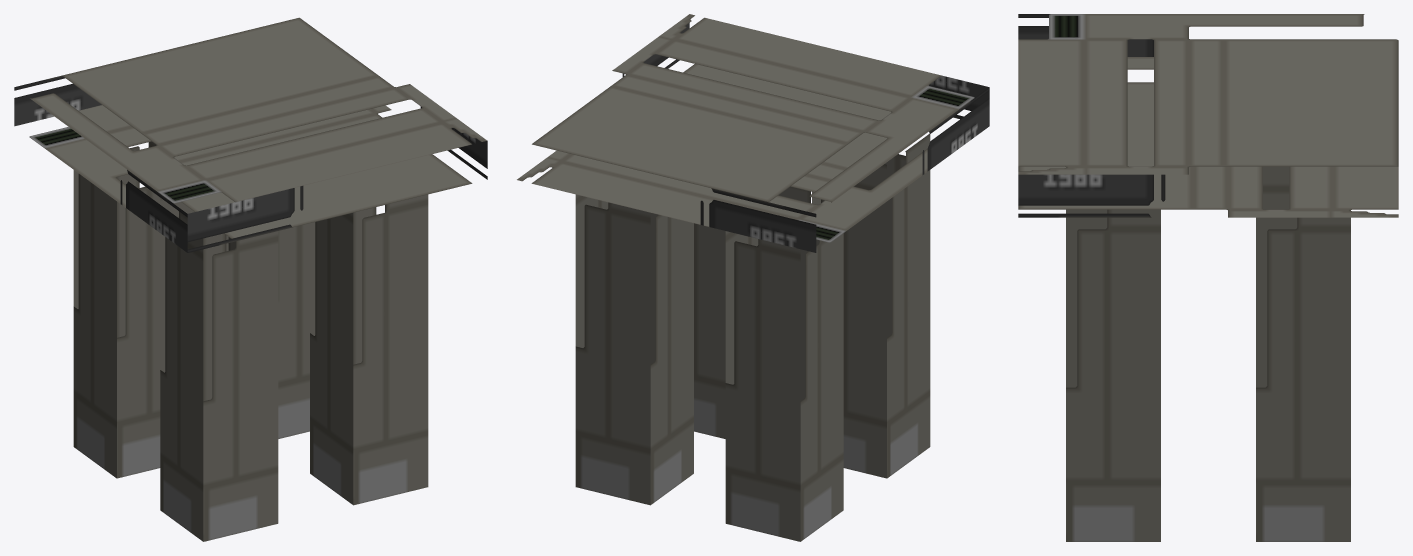
File: rbmk_rods_lid.obj
3 views of the same model, side by side, from view 1: azimuth 30°, elevation 25°; view 2: azimuth 150°, elevation 25°; view 3: azimuth 270°, elevation 25° (orthographic). The views are drawn at different scales.
Parts seen in each view (by area): view 1: Lid; view 2: Lid; view 3: Lid.
Boxes of the visible parts, x1=… form: Lid: x1=14, y1=17, x2=487, y2=541; Lid: x1=517, y1=14, x2=989, y2=541; Lid: x1=1018, y1=14, x2=1398, y2=541.
Size of the model in its own units: 1 by 1.12 by 1.
